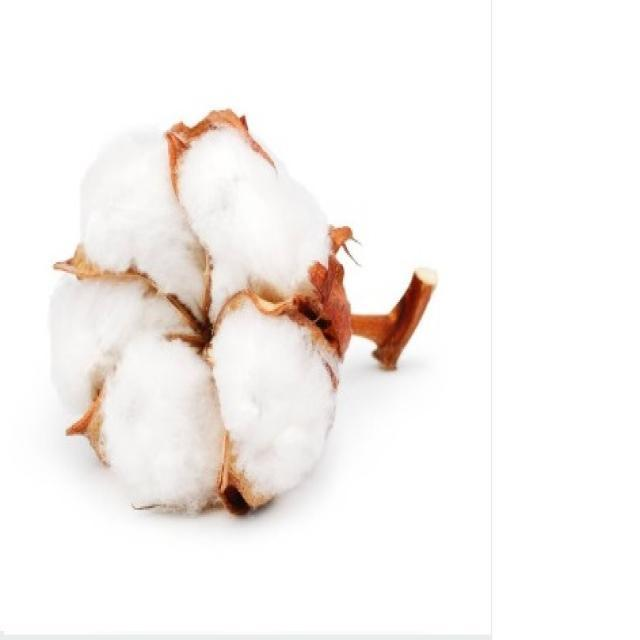Matured Cotton Boll: (45, 101, 355, 515)
